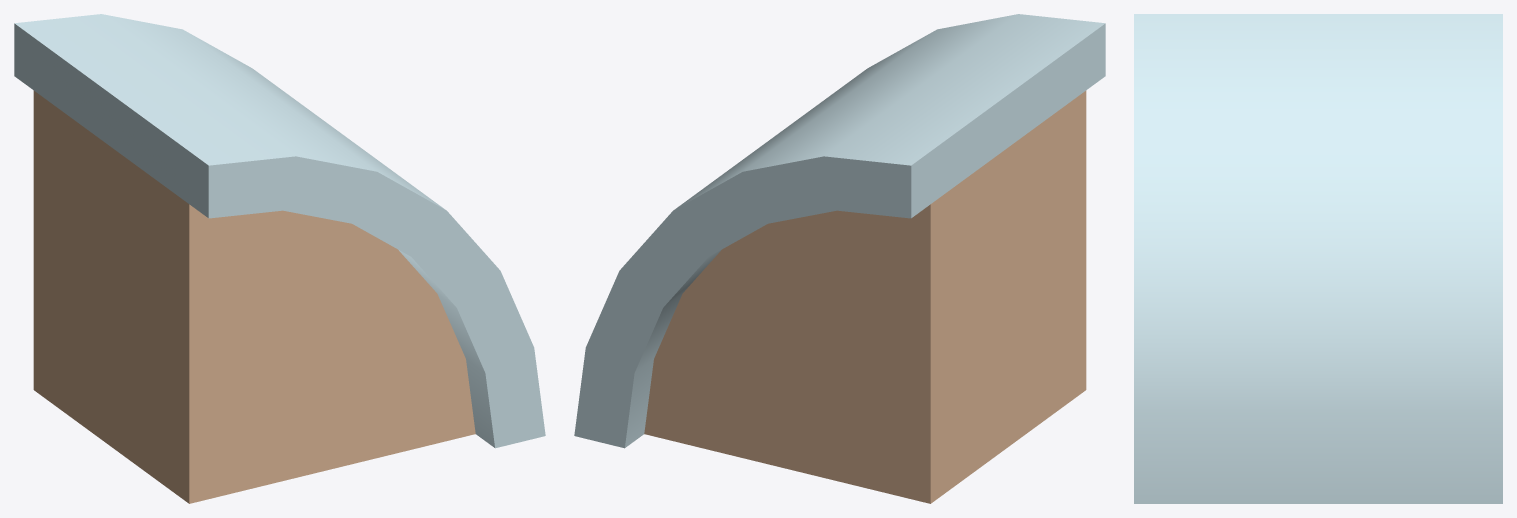
The model's file is blockSnowCurveHalf.glb.
3 views of the same model, side by side, from view 1: azimuth 30°, elevation 25°; view 2: azimuth 150°, elevation 25°; view 3: azimuth 270°, elevation 25° (orthographic). The views are drawn at different scales.
Parts seen in each view (by area): view 1: blockSnowCurveHalf; view 2: blockSnowCurveHalf; view 3: blockSnowCurveHalf.
Boxes of the visible parts, x1,y1,x2,y2 form: blockSnowCurveHalf: [14, 14, 545, 503]; blockSnowCurveHalf: [574, 14, 1105, 503]; blockSnowCurveHalf: [1134, 14, 1502, 503].
Size of the model in its own units: 1 by 1 by 1.
